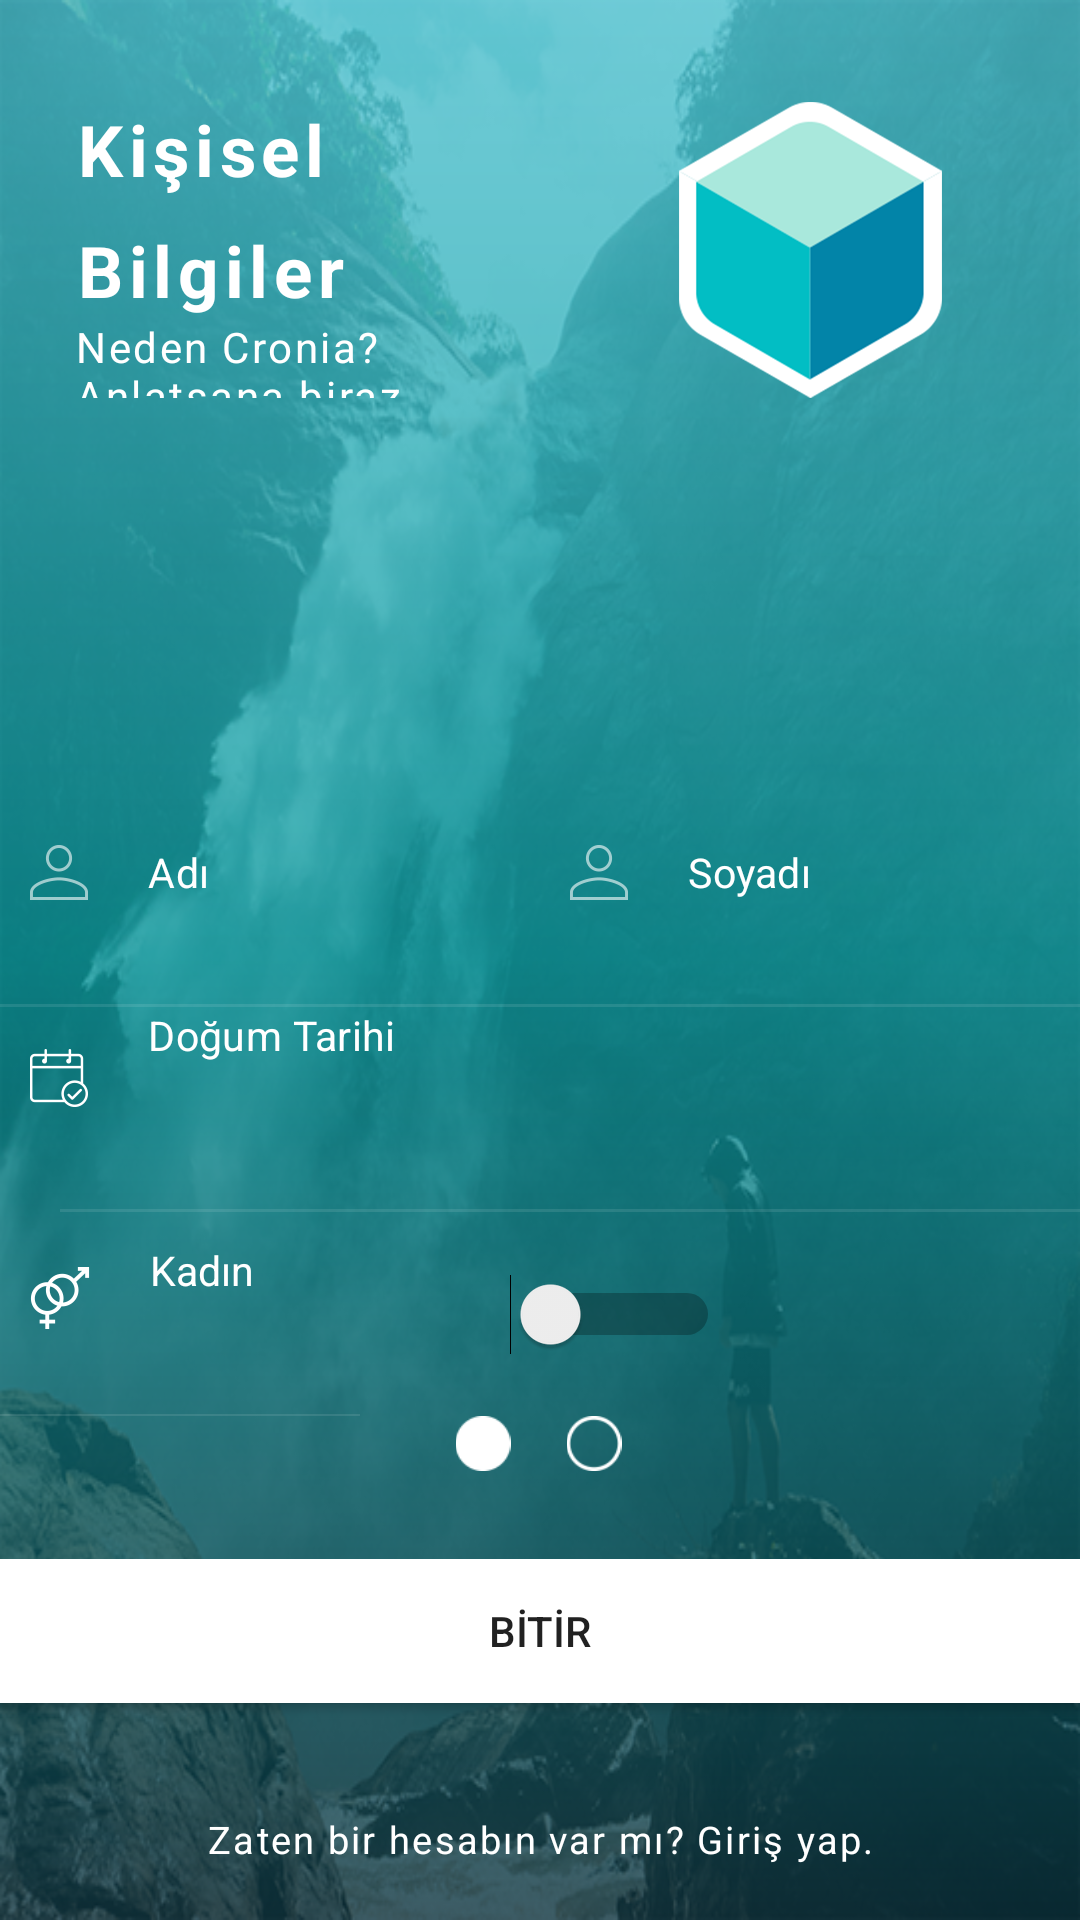

Screen size 1080px x 1920px. Icon name, then its box in pixels as (x1, y1, x2, y2):
empty circle: (567, 1416, 622, 1471)
full circle: (456, 1416, 511, 1471)
